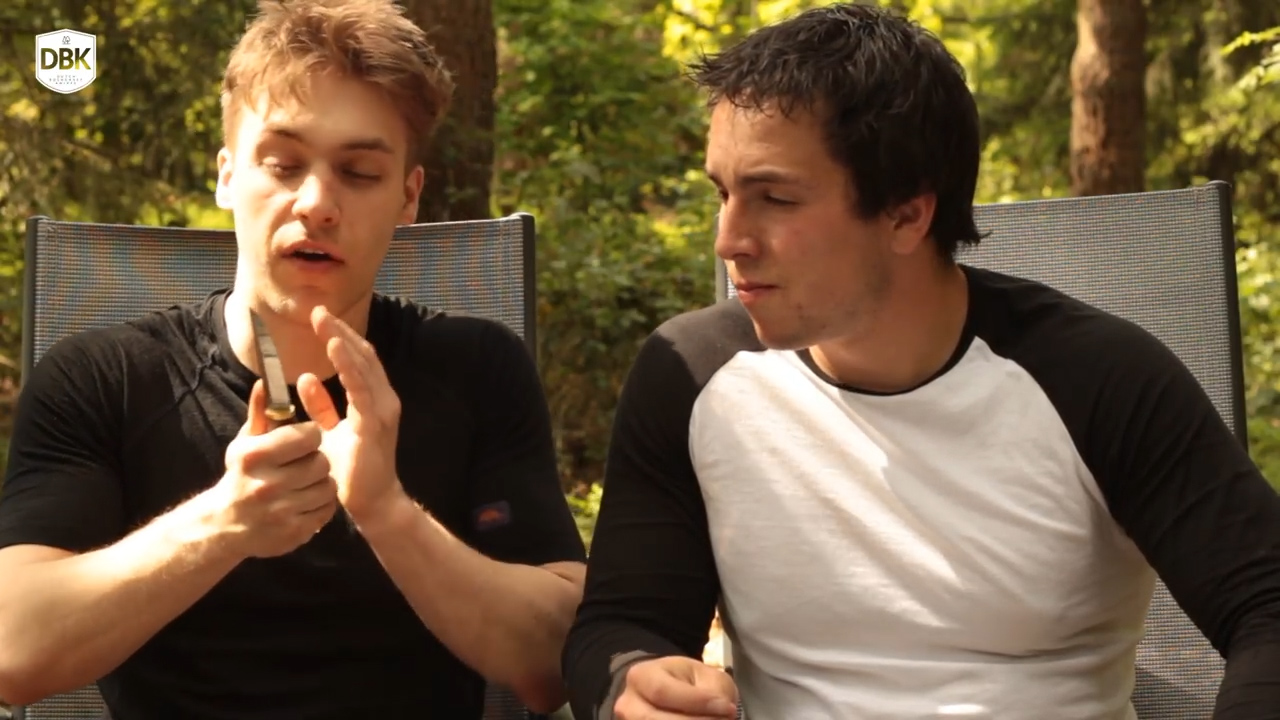knife: (210, 286, 342, 516)
